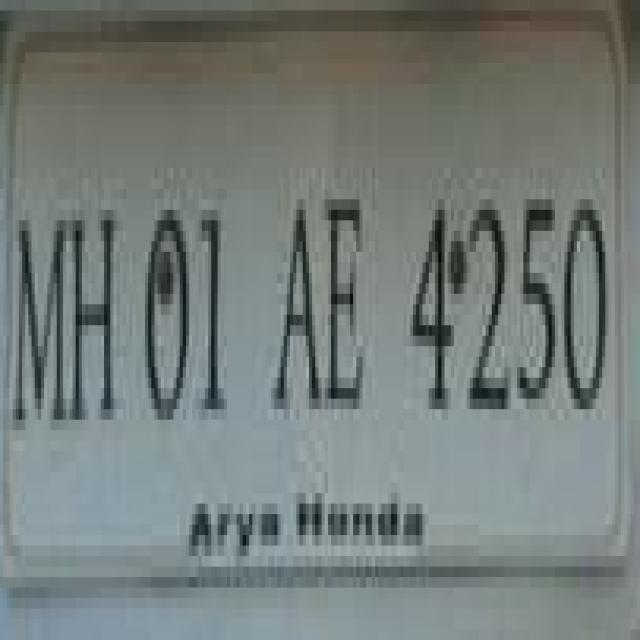license_plate: (3, 21, 605, 588)
